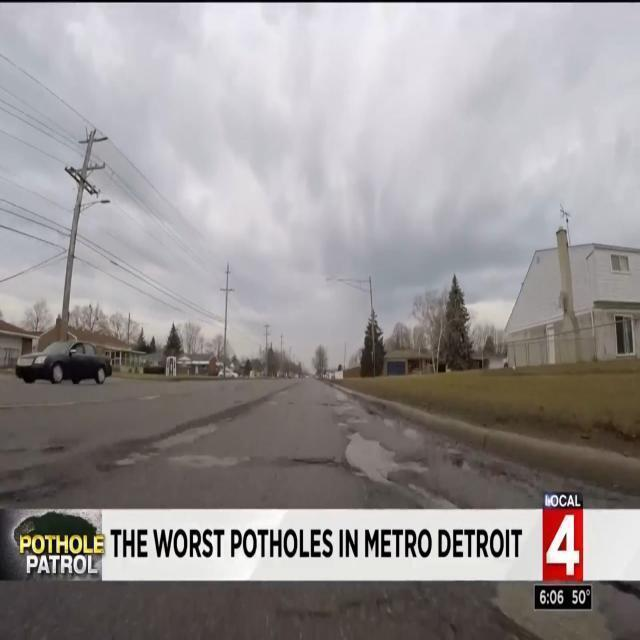Pothole: (351, 439, 428, 498), (126, 419, 203, 474)
